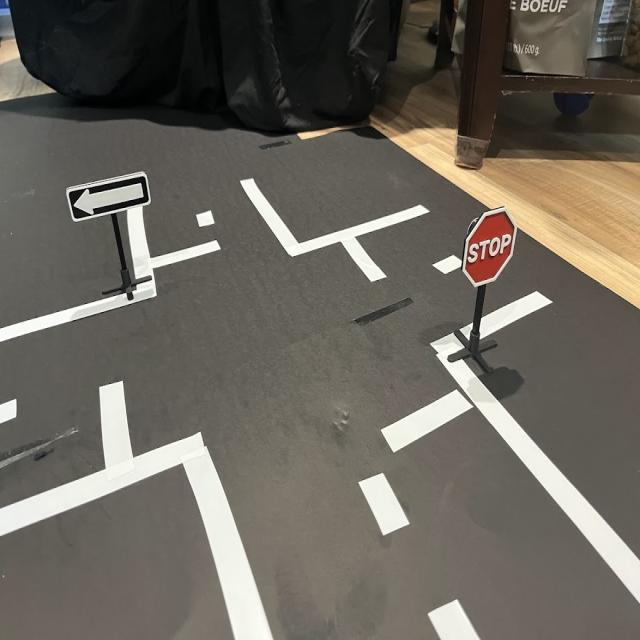sign_oneway_left: (67, 170, 153, 224)
sign_stop: (462, 208, 518, 288)
